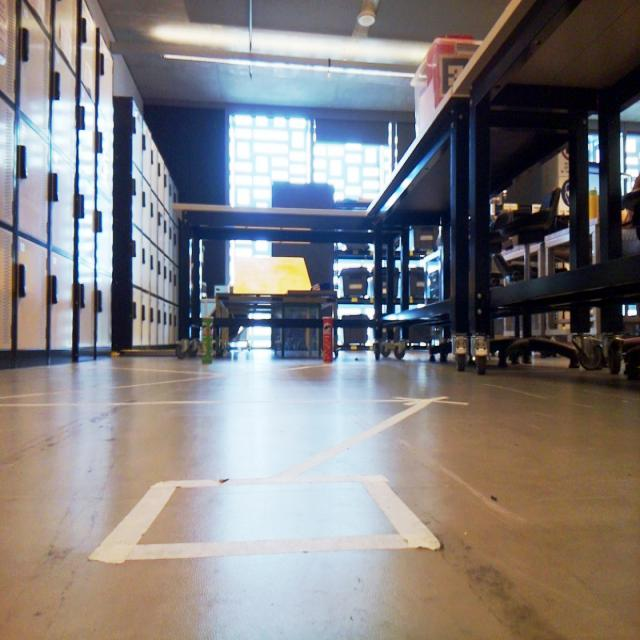greenpringles: (188, 307, 224, 370)
redpringles: (310, 311, 344, 373)
